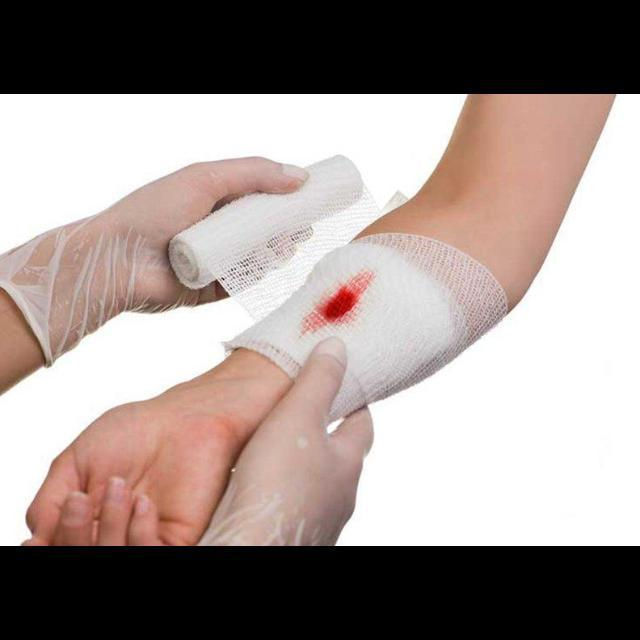blood: (301, 270, 375, 334)
